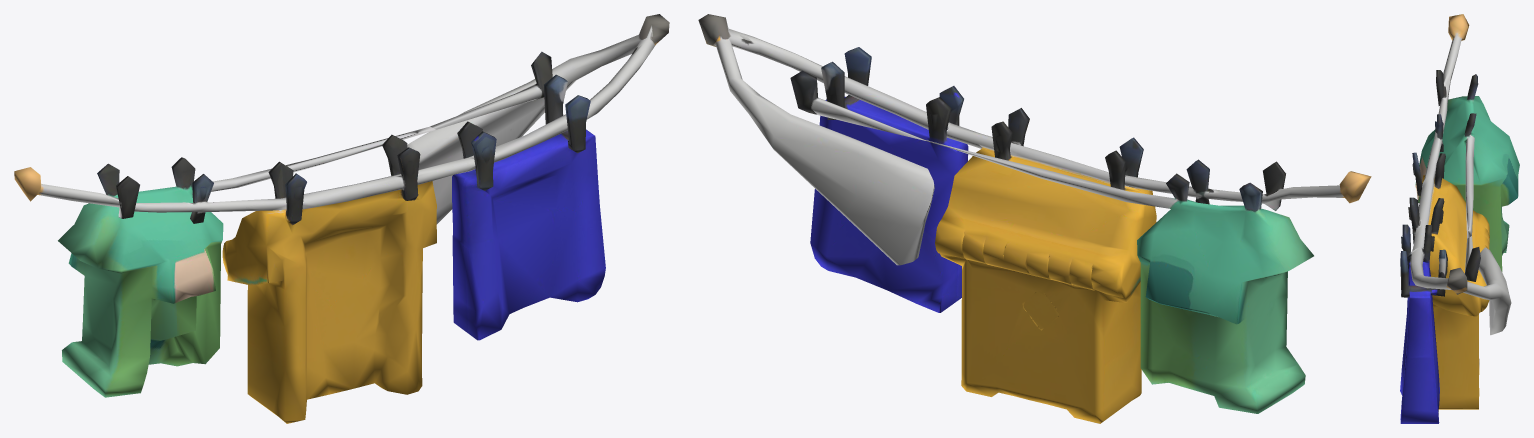
Rendered from hanginglaundry.glb.
3 renders of one model, left to right at view 1: azimuth 30°, elevation 25°; view 2: azimuth 150°, elevation 25°; view 3: azimuth 270°, elevation 25°, orthographic. The views are drawn at different scales.
Parts seen in each view (by area): view 1: tripo_node_978db211-5fee-4f80-bde7-5c98bb14bb23; view 2: tripo_node_978db211-5fee-4f80-bde7-5c98bb14bb23; view 3: tripo_node_978db211-5fee-4f80-bde7-5c98bb14bb23.
Part boxes in pixels (box(x1,y1,x2,y2)): tripo_node_978db211-5fee-4f80-bde7-5c98bb14bb23: box(14, 14, 669, 423); tripo_node_978db211-5fee-4f80-bde7-5c98bb14bb23: box(698, 14, 1371, 423); tripo_node_978db211-5fee-4f80-bde7-5c98bb14bb23: box(1400, 14, 1519, 423).
Bounding box in the file's own units: 1 × 0.4355 × 0.1934.
Materials: 1 (1 with a texture image).
